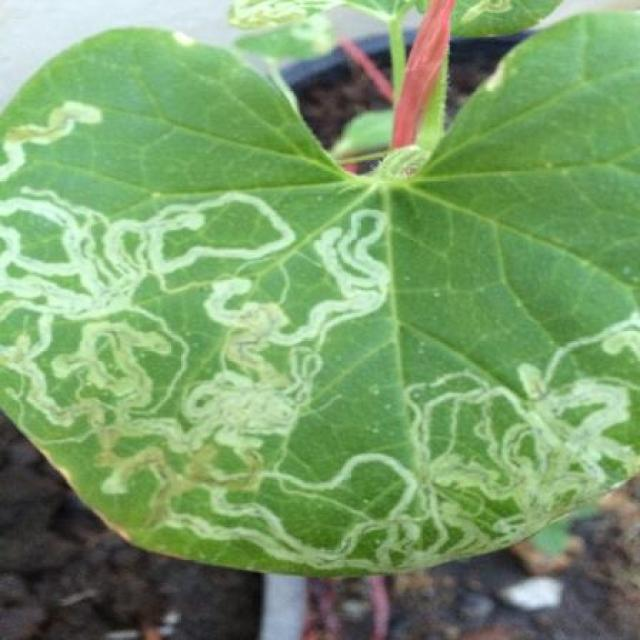Leaf Miner: (0, 24, 640, 577)
